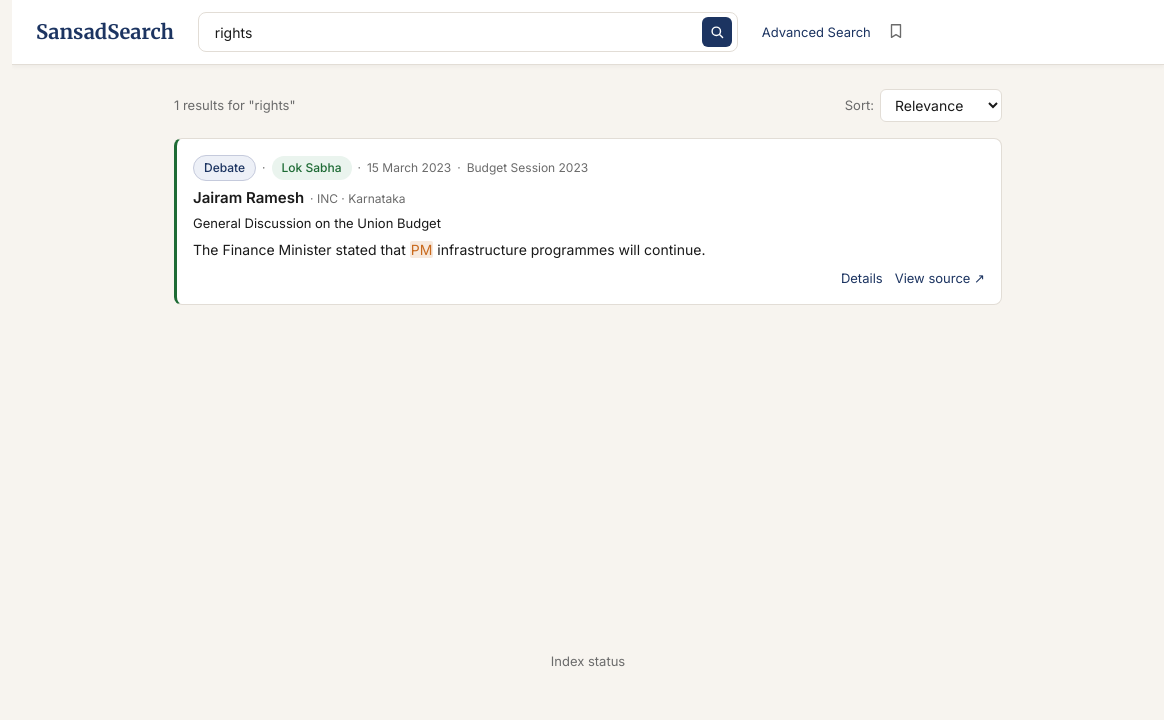
Results — sort dropdown (F06) › changing sort updates URL and re-fetches
The image size is (1164, 720).
Select "Oldest first" in the dropdown with test id "sort-dropdown". click: x=941, y=106
box: [880, 89, 1002, 122]
(page scrolled)
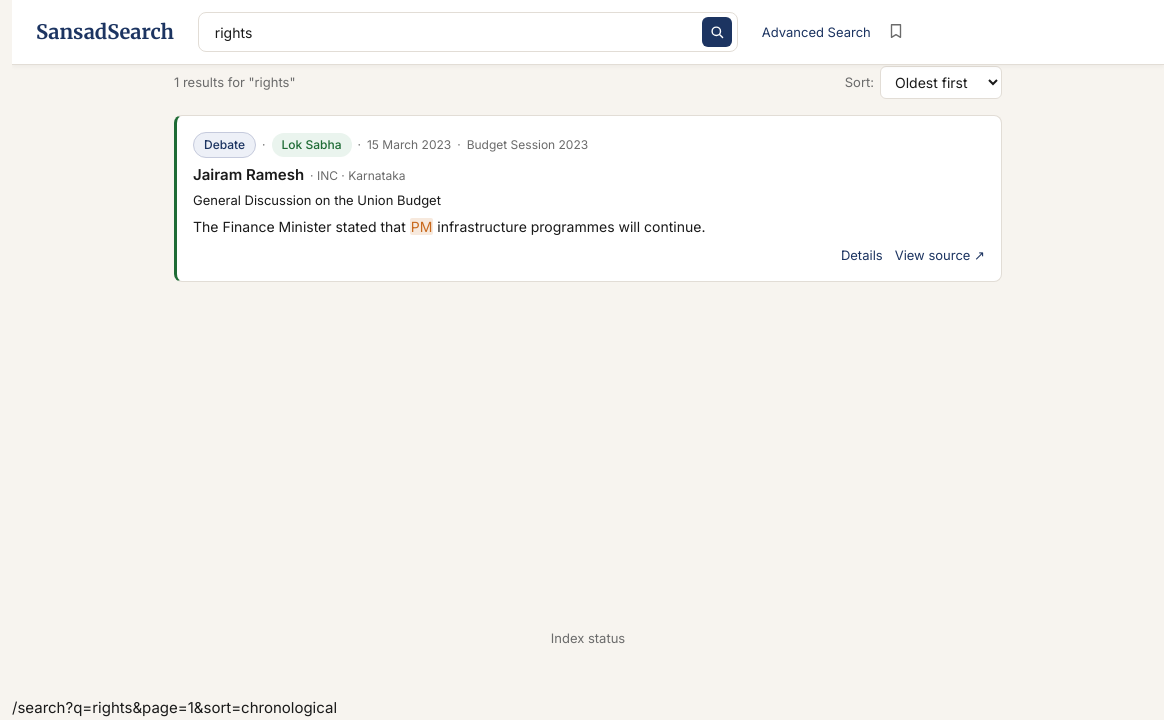
Expected: the text with test id "loc" shows "sort=chronological", [12, 698, 337, 717]
